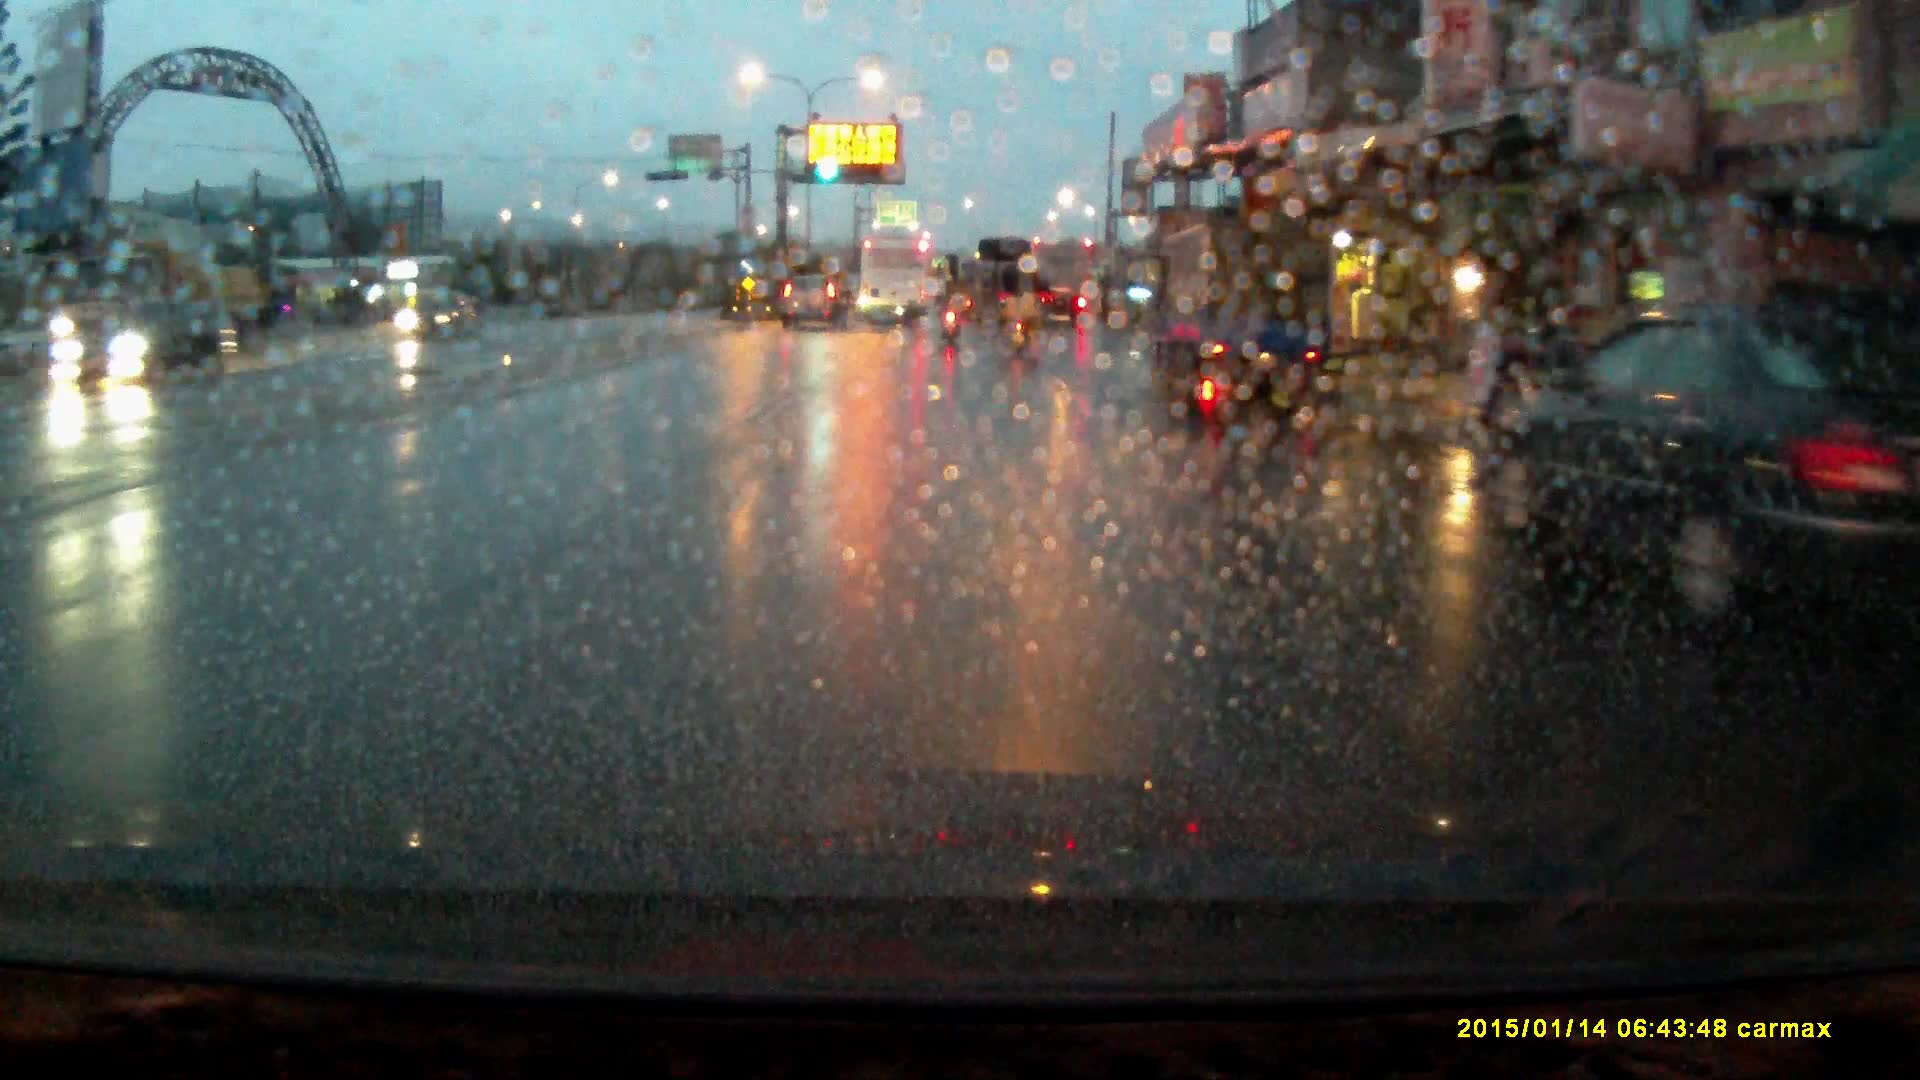rider: (1000, 276, 1039, 360), (933, 271, 966, 337)
vehicle: (1481, 305, 1915, 638), (1147, 220, 1338, 403), (51, 243, 272, 360), (71, 306, 222, 396), (858, 236, 930, 326), (976, 237, 1046, 328), (394, 288, 476, 345), (782, 268, 848, 329)
